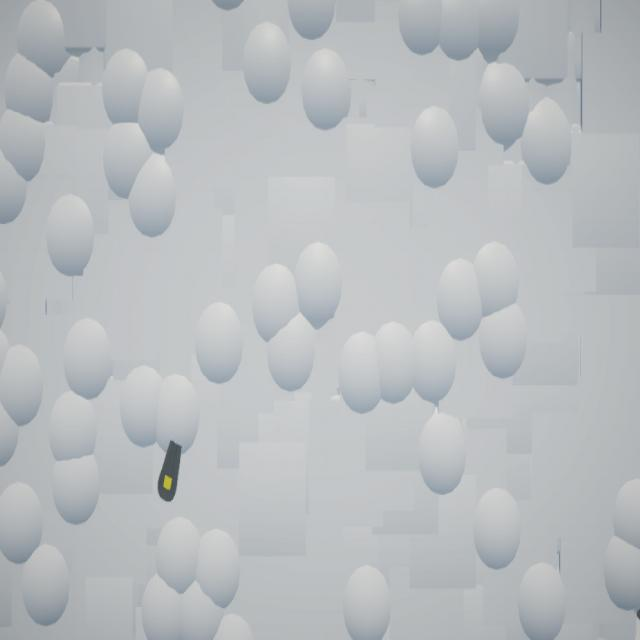handle_folk: (159, 441, 183, 503)
